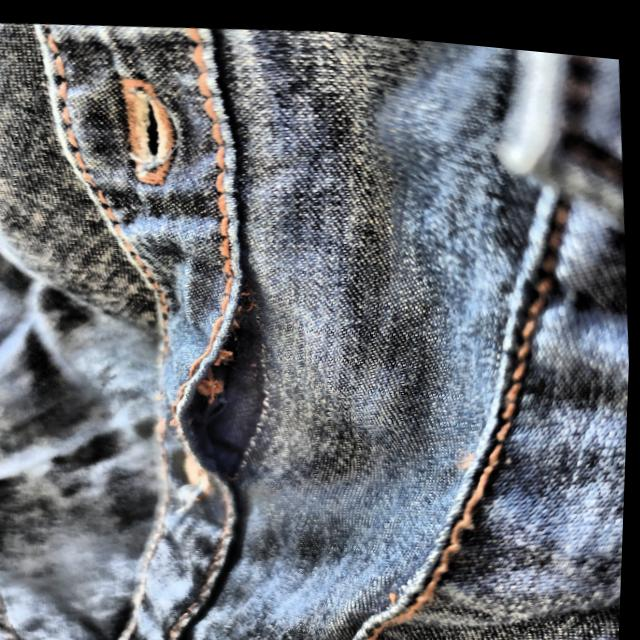seam: (156, 244, 293, 493)
